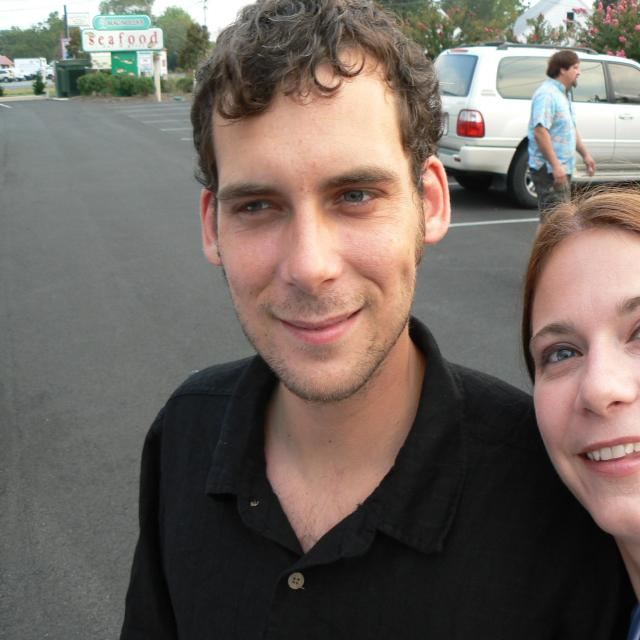no-glass: (217, 178, 399, 229)
